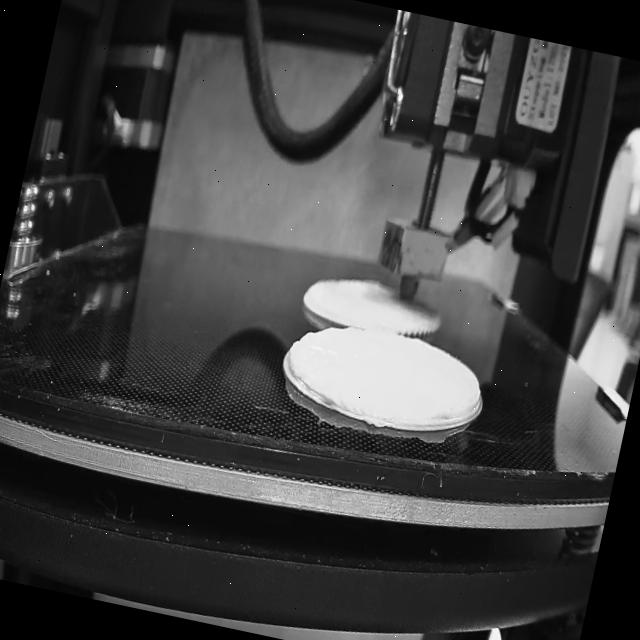over_extrusion: (280, 340, 308, 390)
